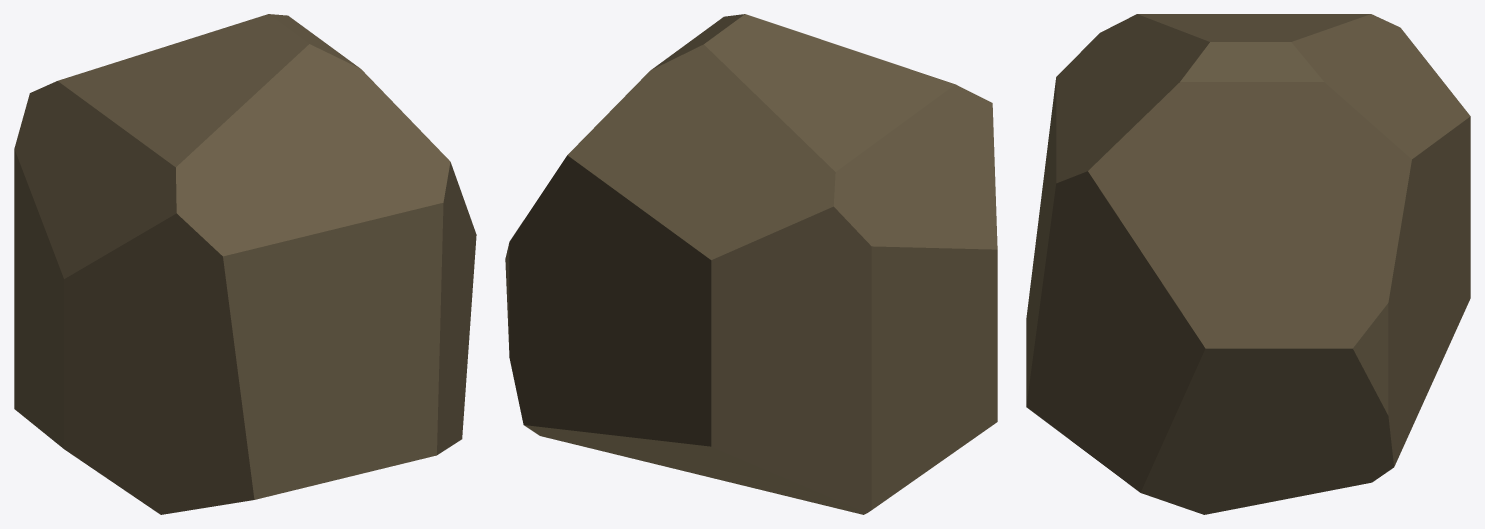
File: Rock_02.fbx
The picture shows the model from 3 angles, left to right: view 1: azimuth 30°, elevation 25°; view 2: azimuth 150°, elevation 25°; view 3: azimuth 270°, elevation 25°; orthographic projection. The views are drawn at different scales.
Parts seen in each view (by area): view 1: Rock_02; view 2: Rock_02; view 3: Rock_02.
Boxes of the visible parts, <box> form: Rock_02: <box>14,14,476,514</box>; Rock_02: <box>505,14,997,514</box>; Rock_02: <box>1026,14,1470,514</box>.
Bounding box in the file's own units: 194 × 190 × 183.
